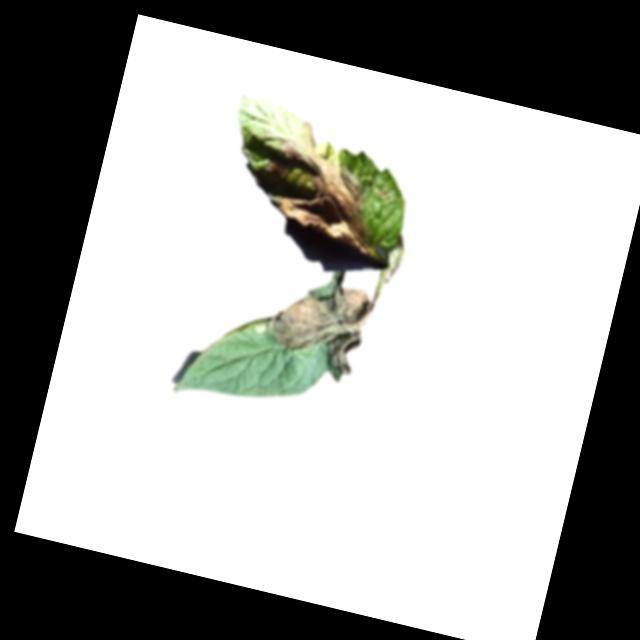Late_blight: (244, 112, 398, 254), (258, 269, 376, 386)
